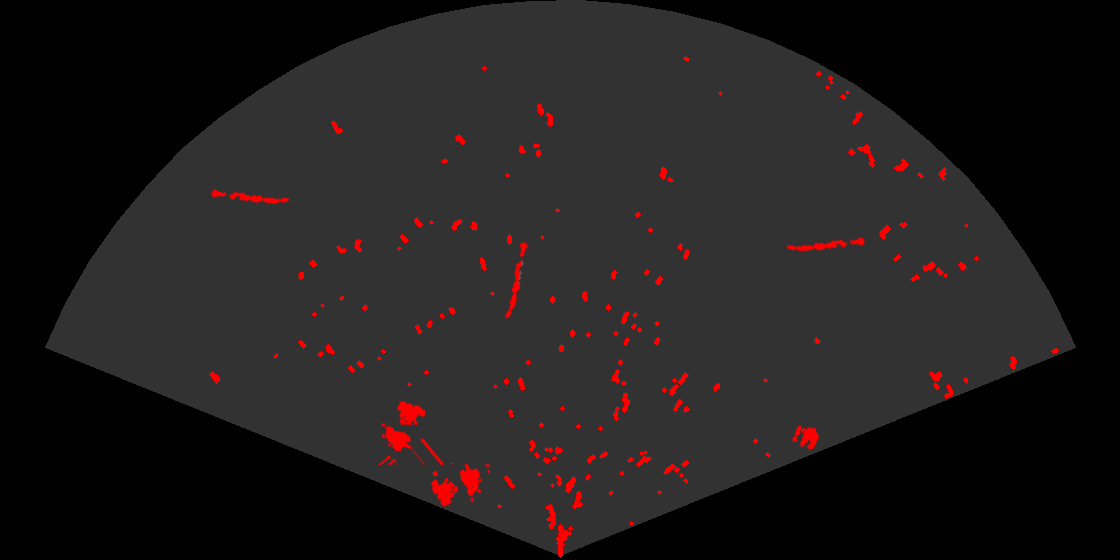ball: (790, 424, 821, 452)
cage: (376, 399, 443, 465), (429, 463, 490, 508)
chain: (504, 240, 530, 320), (208, 188, 291, 206), (785, 236, 868, 253)
